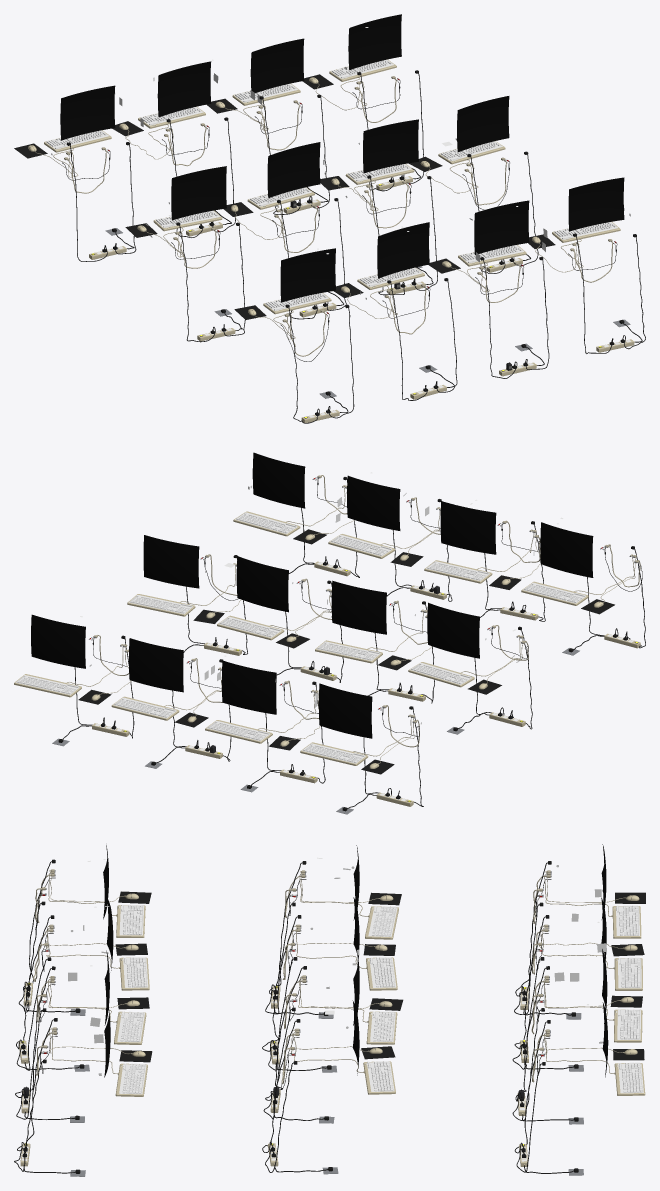
The model's file is FurnitureCharted.fbx.
3 views of the same model, one above another, from view 1: azimuth 30°, elevation 25°; view 2: azimuth 150°, elevation 25°; view 3: azimuth 270°, elevation 25° (orthographic). The views are drawn at different scales.
Visible parts, largest first — view 1: Station 0 rest, Station 11 rest, Station 1 rest, Station 3 rest, Station 7 rest, Station 2 rest, Station 5 rest, Station 9 rest, Station 10 rest, Station 8 rest, Station 4 rest, Station 6 rest; view 2: Station 11 rest, Station 3 rest, Station 2 rest, Station 10 rest, Station 9 rest, Station 8 rest, Station 7 rest, Station 4 rest, Station 6 rest, Station 1 rest, Station 0 rest, Station 5 rest; view 3: Station 0 rest, Station 4 rest, Station 9 rest, Station 2 rest, Station 6 rest, Station 1 rest, Station 11 rest, Station 10 rest, Station 5 rest, Station 8 rest, Station 7 rest, Station 3 rest.
Boxes of the visible parts, left/top/right/bottom form: Station 0 rest: left=528, top=177, right=645, bottom=353; Station 11 rest: left=14, top=85, right=136, bottom=261; Station 1 rest: left=428, top=200, right=549, bottom=378; Station 3 rest: left=234, top=248, right=354, bottom=423; Station 7 rest: left=125, top=166, right=245, bottom=342; Station 2 rest: left=333, top=222, right=457, bottom=400; Station 5 rest: left=320, top=119, right=437, bottom=295; Station 9 rest: left=207, top=38, right=329, bottom=214; Station 10 rest: left=112, top=59, right=235, bottom=237; Station 8 rest: left=302, top=14, right=423, bottom=191; Station 4 rest: left=408, top=96, right=538, bottom=273; Station 6 rest: left=223, top=142, right=346, bottom=319; Station 11 rest: left=300, top=683, right=423, bottom=814; Station 3 rest: left=521, top=517, right=645, bottom=655; Station 2 rest: left=424, top=499, right=545, bottom=621; Station 10 rest: left=205, top=655, right=325, bottom=792; Station 9 rest: left=111, top=638, right=231, bottom=768; Station 8 rest: left=14, top=614, right=134, bottom=746; Station 7 rest: left=408, top=602, right=532, bottom=734; Station 4 rest: left=127, top=535, right=247, bottom=655; Station 6 rest: left=315, top=580, right=434, bottom=703; Station 1 rest: left=328, top=472, right=452, bottom=601; Station 0 rest: left=233, top=452, right=359, bottom=577; Station 5 rest: left=217, top=556, right=343, bottom=682; Station 0 rest: left=14, top=1003, right=152, bottom=1176; Station 4 rest: left=262, top=1000, right=395, bottom=1174; Station 9 rest: left=512, top=949, right=642, bottom=1124; Station 2 rest: left=16, top=897, right=149, bottom=1071; Station 6 rest: left=262, top=897, right=397, bottom=1072; Station 1 rest: left=15, top=950, right=149, bottom=1122; Station 11 rest: left=514, top=844, right=645, bottom=1019; Station 10 rest: left=512, top=897, right=644, bottom=1071; Station 5 rest: left=263, top=951, right=403, bottom=1123; Station 8 rest: left=514, top=1002, right=645, bottom=1175; Station 7 rest: left=265, top=845, right=401, bottom=1018; Station 3 rest: left=18, top=845, right=151, bottom=1015.
Bounding box in the file's own units: 3.92 × 1.37 × 5.09.
